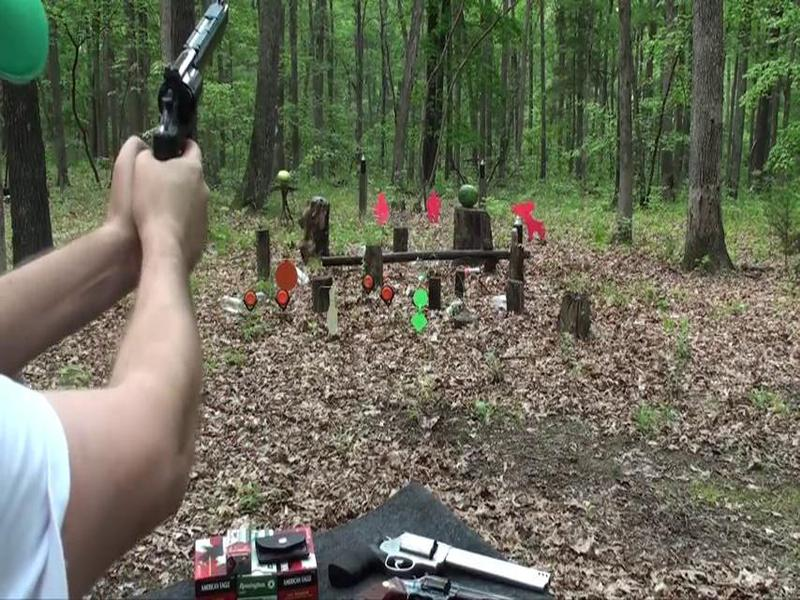Revolver: (140, 1, 238, 164)
